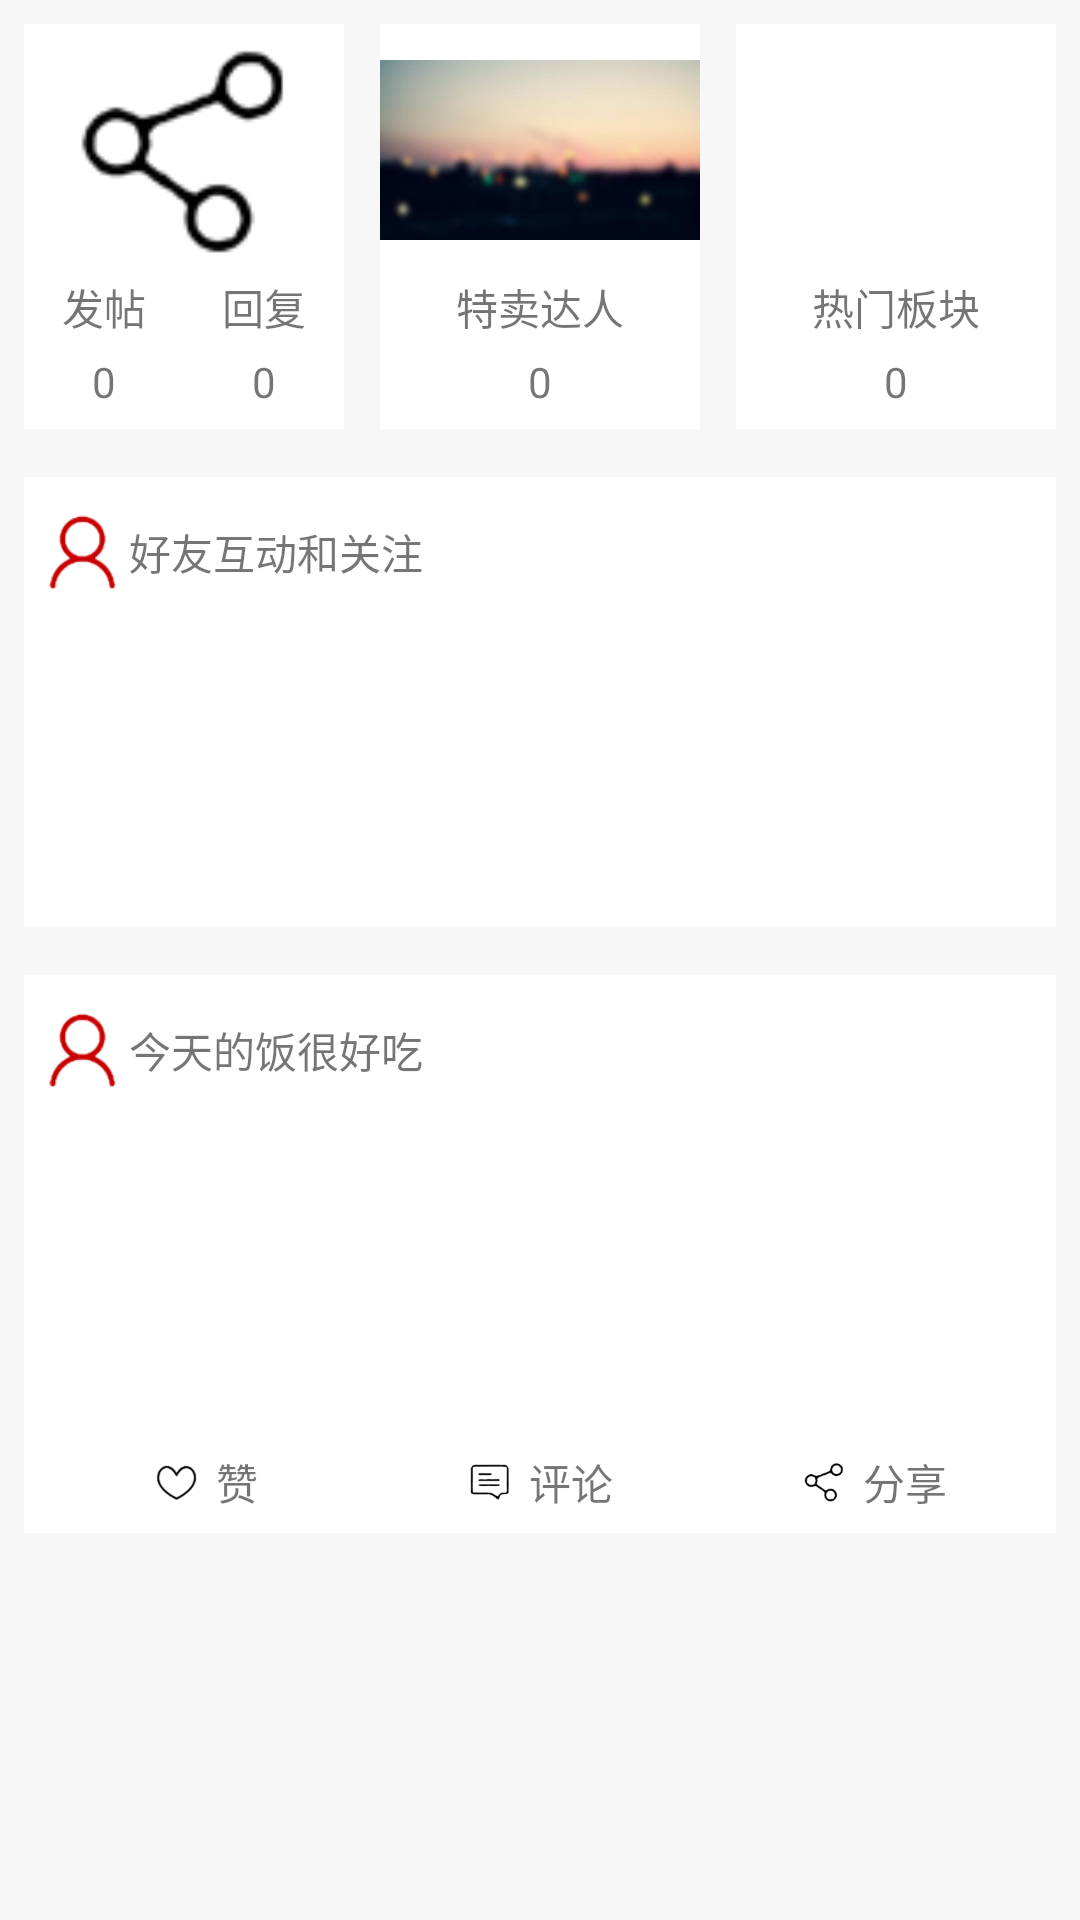

Icons on this 1080×1920 Android screen, each with the point to tap as [x,y]:
favorite: [177,1482]
profile: [82,552], [82,1050]
